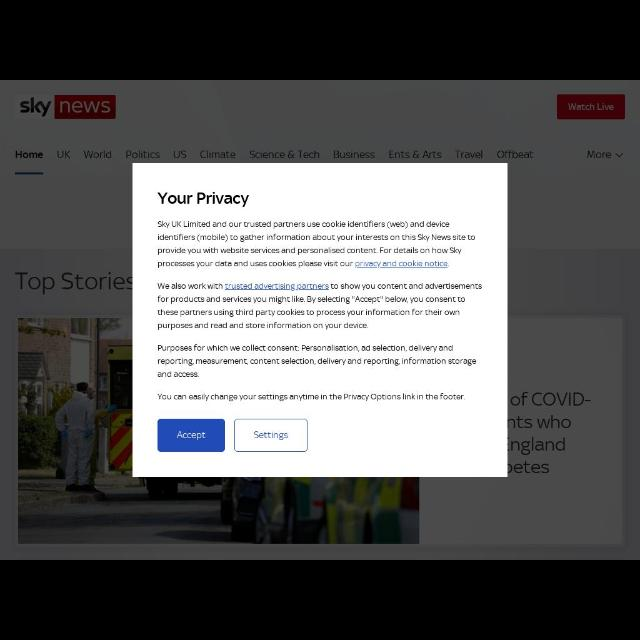icon: (614, 152, 624, 158)
image: (18, 318, 420, 542), (15, 95, 116, 119)
link: (225, 283, 329, 291), (355, 260, 449, 268)
panel: (132, 164, 508, 476)
spinner: (588, 149, 624, 161)
text: (157, 282, 483, 330), (158, 220, 476, 268), (158, 344, 476, 366), (14, 271, 132, 295), (158, 394, 466, 402), (157, 192, 249, 208), (511, 392, 592, 406), (509, 437, 566, 455), (508, 416, 572, 430), (250, 150, 320, 160), (508, 461, 550, 475), (333, 150, 375, 160), (390, 150, 442, 158), (568, 102, 614, 110), (254, 431, 288, 441), (158, 370, 200, 378), (498, 150, 534, 158), (200, 150, 236, 158), (126, 150, 160, 158), (178, 432, 206, 441), (588, 150, 612, 160), (454, 150, 484, 158), (84, 150, 112, 158), (16, 150, 44, 158), (58, 150, 70, 160), (174, 150, 186, 158)
textbutton: (235, 418, 308, 452), (158, 420, 225, 452), (557, 94, 625, 120)
